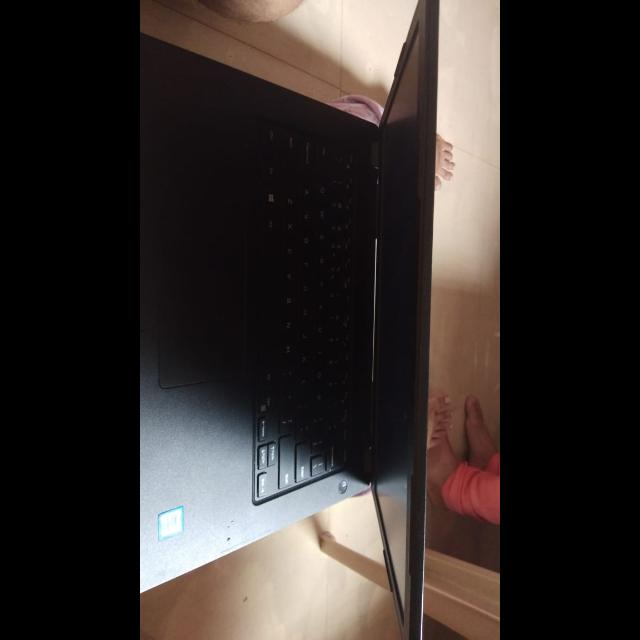Flat-Panel-Monitor: (140, 1, 500, 640)
